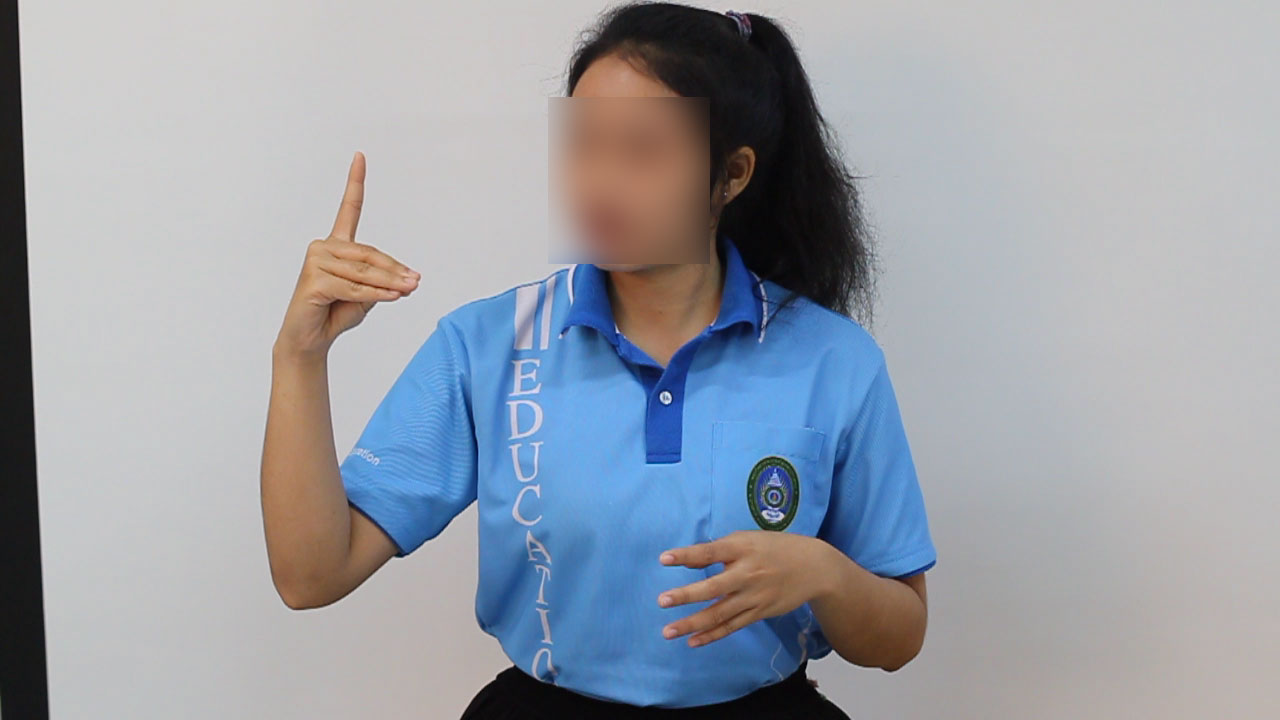dor: (266, 140, 432, 363)
